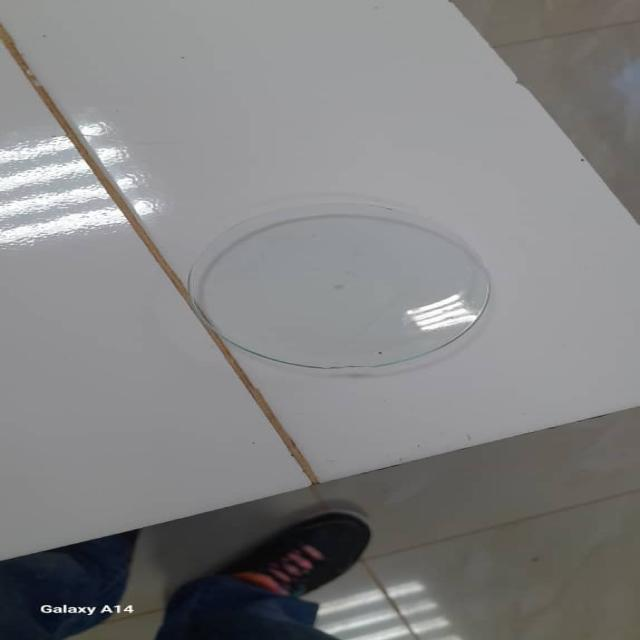Pedrish: (182, 213, 500, 374)
